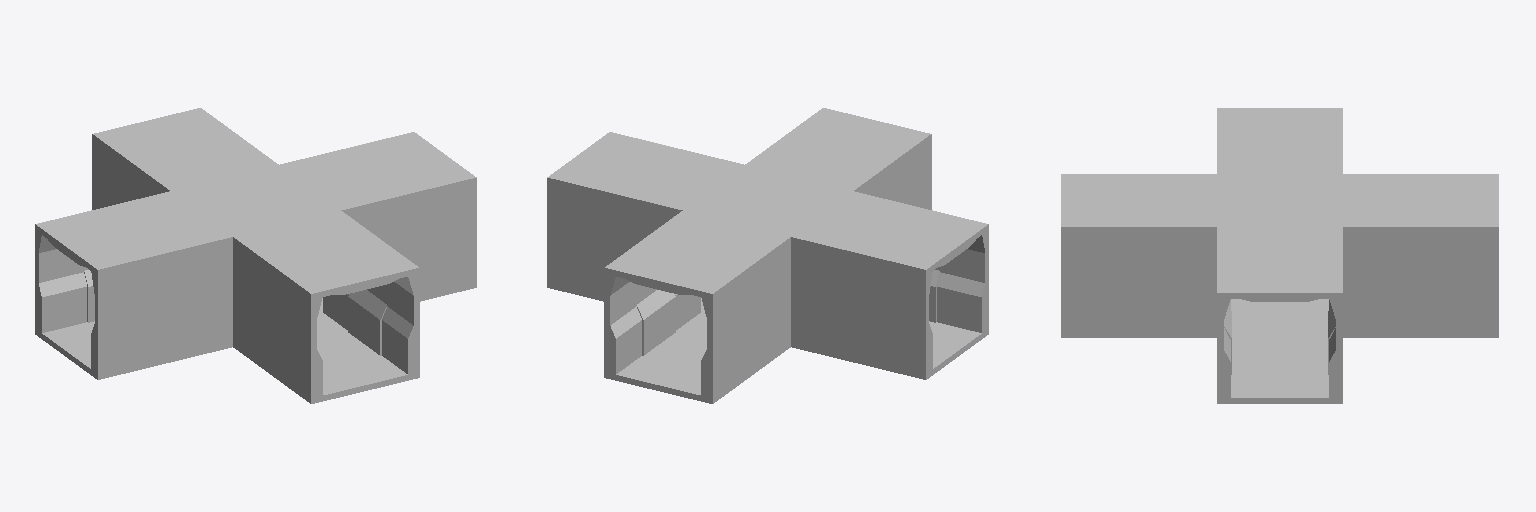
Rendered from cross sectionhallwa.obj.
The picture shows the model from 3 angles: view 1: azimuth 30°, elevation 25°; view 2: azimuth 150°, elevation 25°; view 3: azimuth 270°, elevation 25°; orthographic projection.
Visible parts, largest first — view 1: Part1, Part45, Part49, Part44, Part36, Part8, Part52, Part46, Part54, Part43, Part19, Part10 (+4 smaller); view 2: Part1, Part47, Part36, Part46, Part48, Part8, Part52, Part44, Part54, Part50, Part16, Part31 (+4 smaller); view 3: Part1, Part43, Part50, Part8, Part36, Part53, Part52, Part49, Part48.
Boxes of the visible parts, box(x1,y1,x2,y2) form: Part1: box(92, 108, 419, 299); Part45: box(95, 237, 232, 373); Part49: box(333, 175, 476, 295); Part44: box(230, 233, 316, 397); Part36: box(35, 191, 232, 275); Part8: box(281, 132, 472, 209); Part52: box(233, 301, 419, 403); Part46: box(92, 135, 174, 209); Part54: box(35, 321, 232, 379); Part43: box(338, 211, 419, 372); Part19: box(327, 294, 413, 374); Part10: box(39, 287, 86, 332); Part1: box(604, 108, 931, 299); Part47: box(790, 234, 928, 373); Part36: box(791, 191, 988, 275); Part46: box(707, 236, 790, 397); Part48: box(547, 175, 684, 295); Part8: box(547, 132, 743, 214); Part52: box(604, 301, 790, 403); Part44: box(845, 134, 931, 209); Part54: box(791, 321, 988, 379); Part50: box(604, 208, 687, 372); Part16: box(610, 294, 700, 374); Part31: box(937, 287, 984, 332); Part1: box(1061, 174, 1498, 232); Part43: box(1061, 224, 1216, 331); Part50: box(1336, 224, 1498, 331); Part8: box(1217, 227, 1342, 298); Part36: box(1217, 108, 1342, 173); Part53: box(1217, 332, 1342, 403); Part52: box(1061, 299, 1498, 337); Part49: box(1217, 224, 1223, 397); Part48: box(1336, 227, 1342, 397).
Bounding box in the file's own units: 66.5 × 18.5 × 66.5.